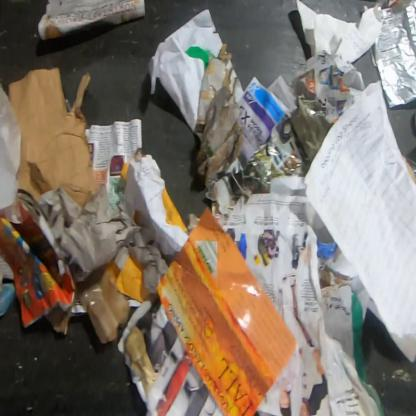cardboard: (7, 67, 100, 209), (194, 42, 244, 192), (78, 266, 130, 342), (405, 159, 415, 186)
soft_plastic: (374, 0, 415, 109)
